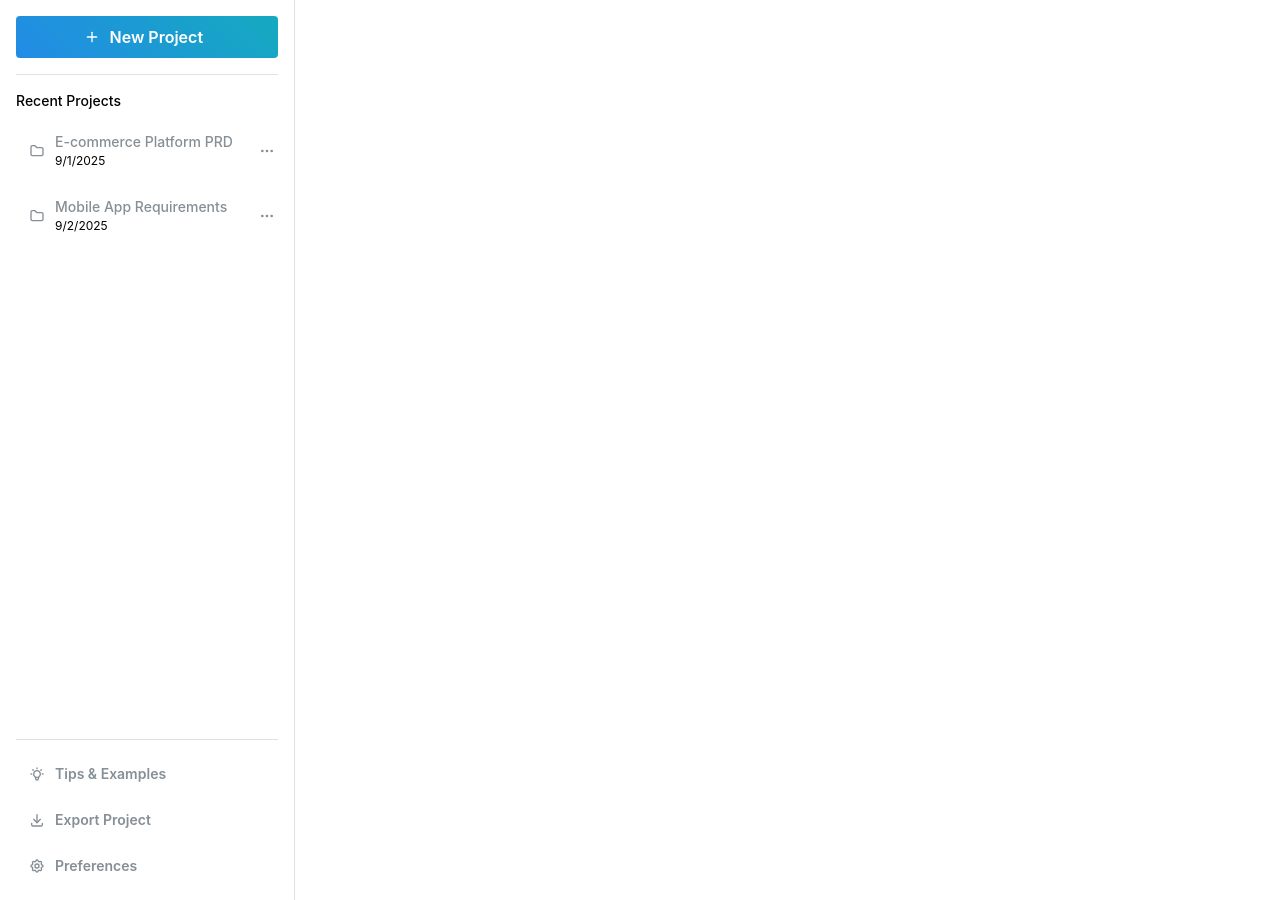
Test: Sidebar › shows delete confirmation when delete is clicked
The width and height of the screenshot is (1280, 900).
Note: Click on project options menu (dots button)
What coordinates should you click on to do the following:
click the button named "Project options for E-commerce Platform PRD"
I would click on:
 (267, 151)
Its box is x1=256 y1=140 x2=278 y2=162.
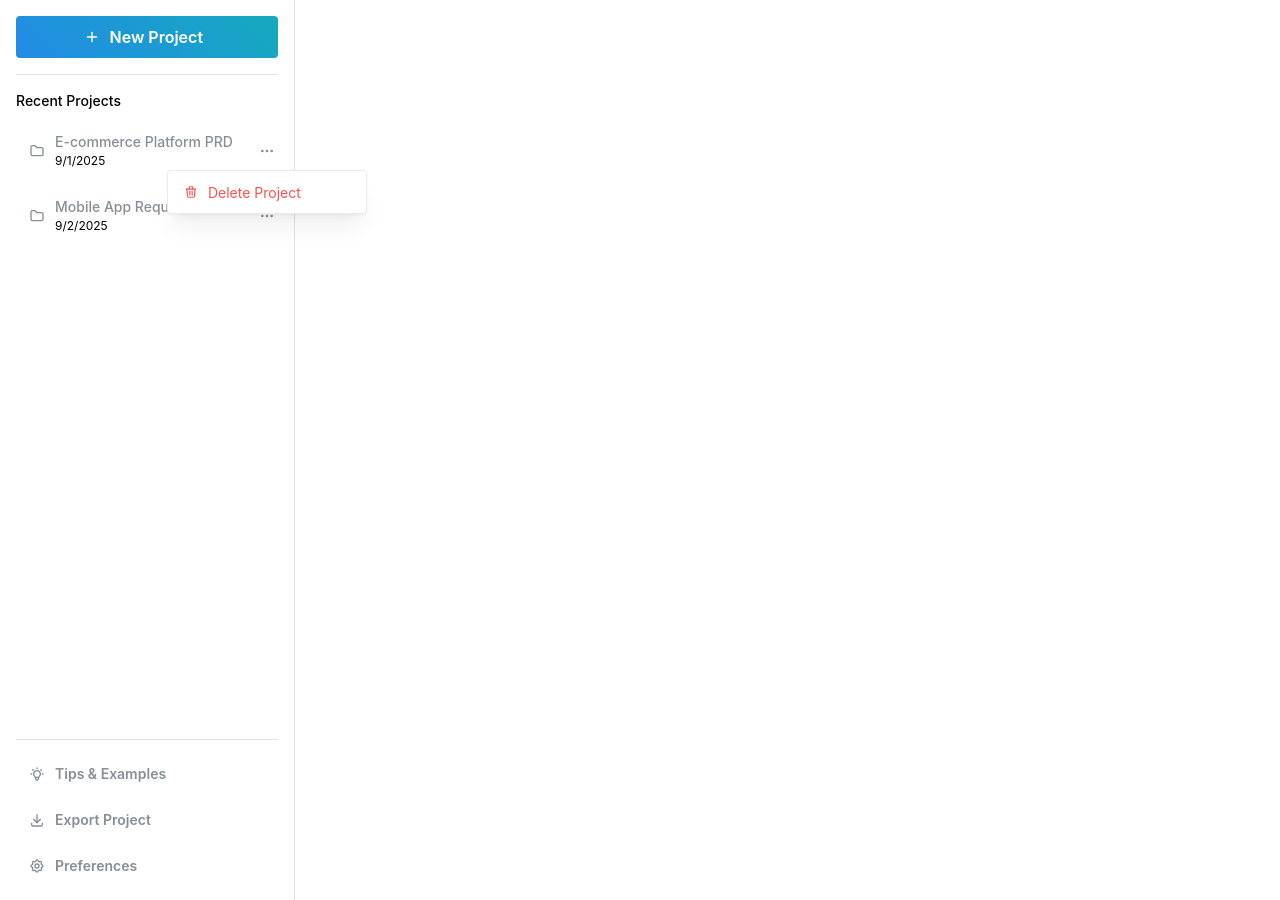
Note: Click delete option - find by role since menu item text might not be visible
What coordinates should you click on to do the following:
click the menu item "Delete Project"
I would click on:
 (267, 192)
Its box is x1=172 y1=175 x2=362 y2=209.
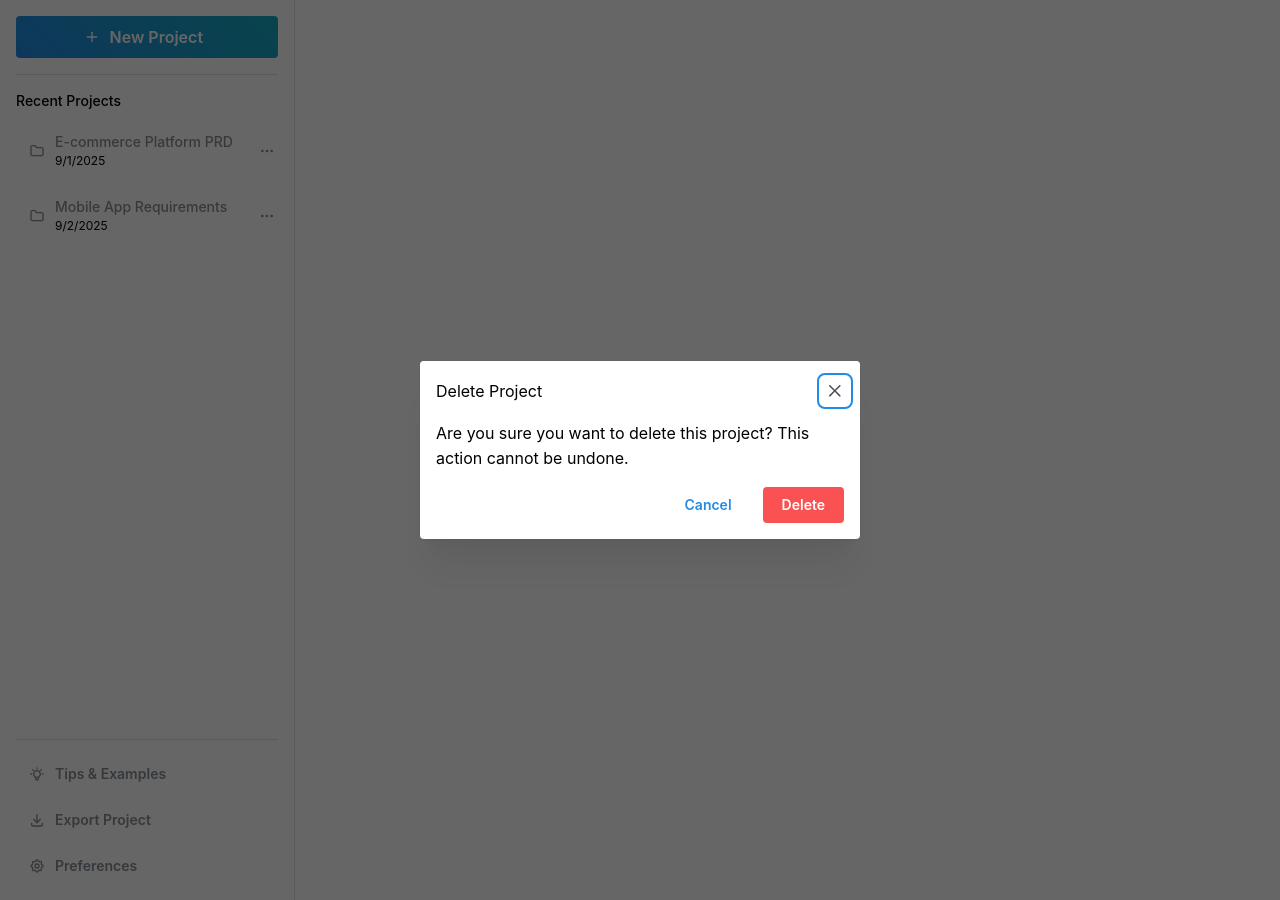
Result: the text "Are you sure you want to delete this project" is shown at x1=436 y1=423 x2=809 y2=468
Result: the button "Delete" is shown at x1=763 y1=487 x2=844 y2=523
